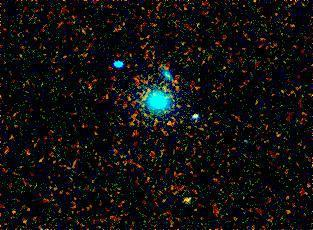star: (173, 185, 203, 215)
